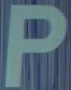Parking: (8, 3, 63, 89)
